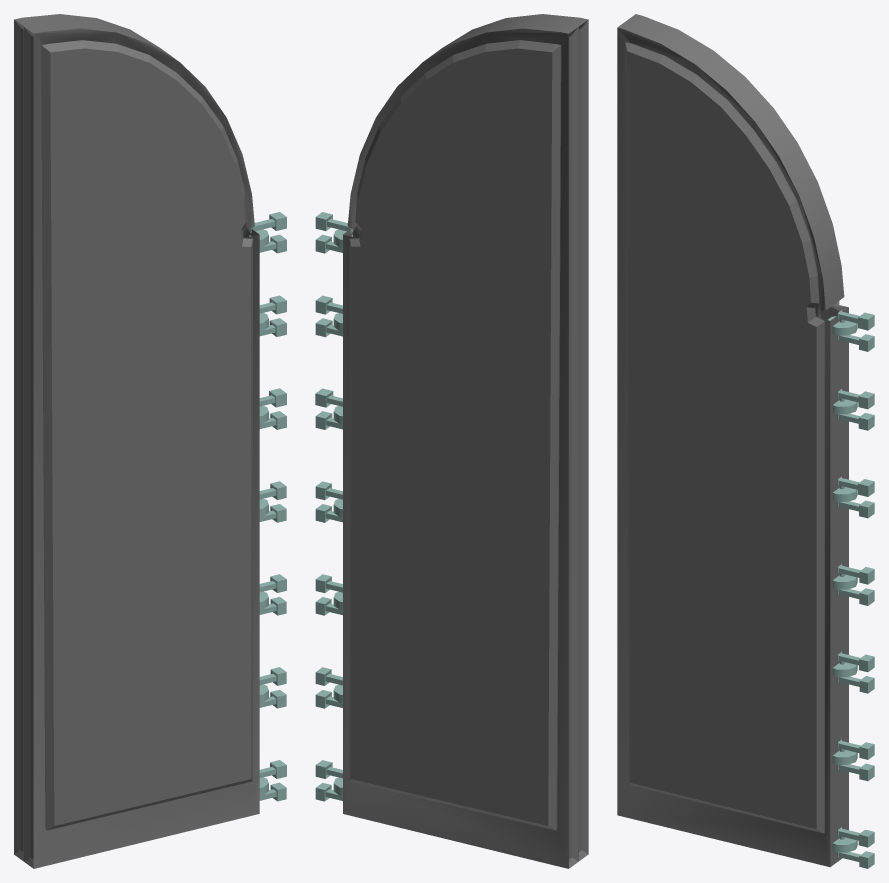
The model's file is Portao.FBX.
3 renders of one model, left to right at view 1: azimuth 30°, elevation 25°; view 2: azimuth 150°, elevation 25°; view 3: azimuth 330°, elevation 25°, orthographic. The views are drawn at different scales.
Visible parts, largest first — view 1: Box035, Box043; view 2: Box035, Box043; view 3: Box035, Box043.
Part boxes in pixels (box(x1,y1,x2,y2)): Box035: box(14, 14, 268, 868); Box043: box(249, 212, 286, 801); Box035: box(333, 14, 588, 868); Box043: box(315, 212, 352, 801); Box035: box(617, 14, 857, 866); Box043: box(837, 310, 874, 868).
Bounding box in the file's own units: 53.97 × 166 × 9.27.
